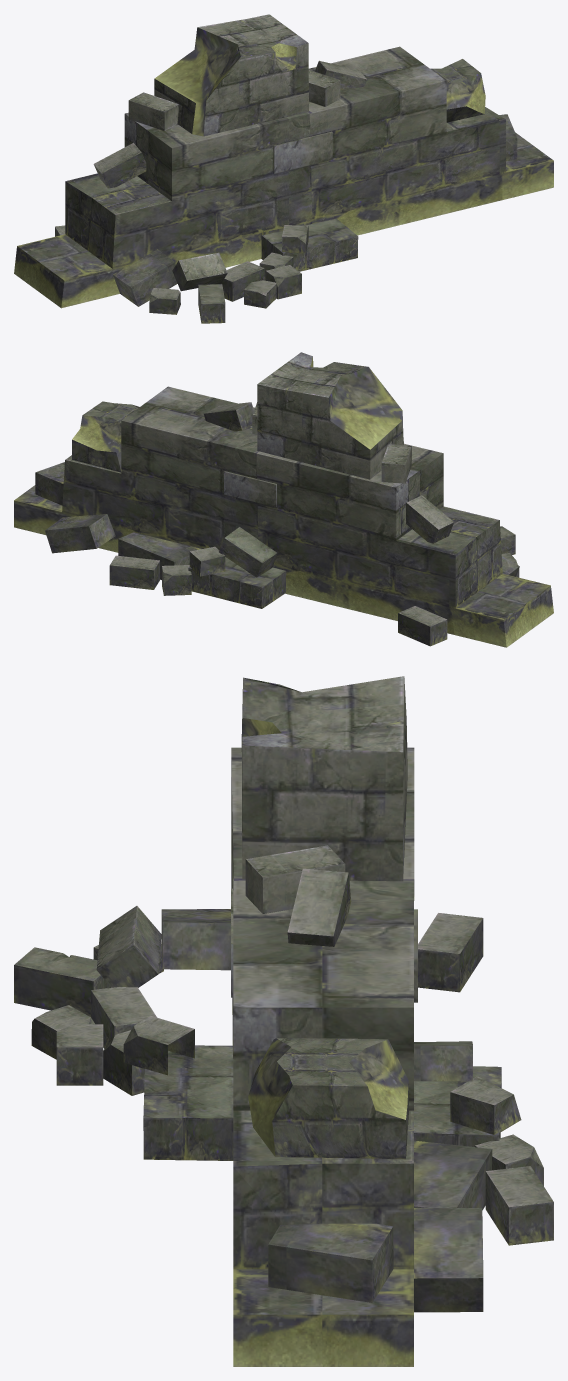
File: zc_zhanchang001_qiang01_55_28_7841out.fbx
3 views of the same model, one above another, from view 1: azimuth 30°, elevation 25°; view 2: azimuth 150°, elevation 25°; view 3: azimuth 270°, elevation 25° (orthographic). The views are drawn at different scales.
Visible parts, largest first — view 1: zc_zhanchang001_qiang01; view 2: zc_zhanchang001_qiang01; view 3: zc_zhanchang001_qiang01.
Boxes of the visible parts, x1,y1,x2,y2 form: zc_zhanchang001_qiang01: (14, 14, 553, 323); zc_zhanchang001_qiang01: (14, 352, 553, 647); zc_zhanchang001_qiang01: (14, 676, 553, 1366).
Size of the model in its own units: 10.53 by 4.17 by 5.16.
